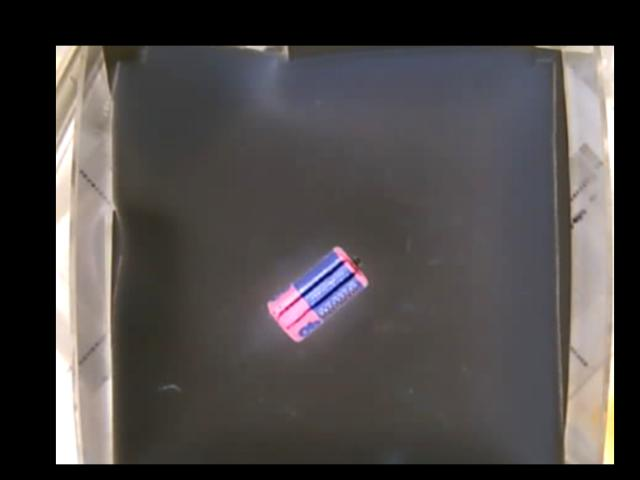Battery: (267, 247, 369, 339)
